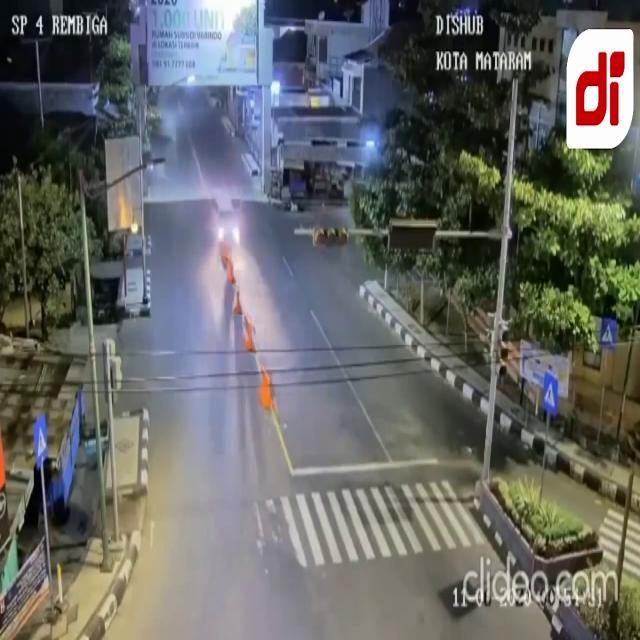normal: (202, 167, 278, 295)
